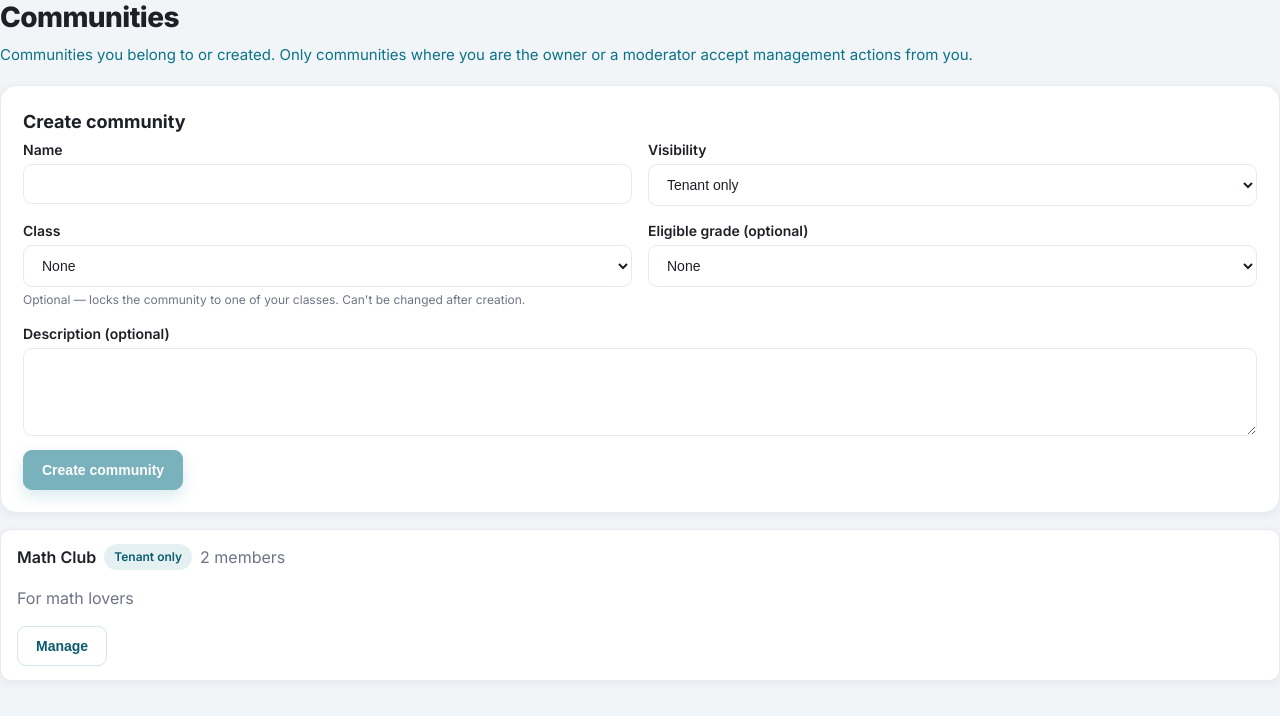
it: TeacherCommunitiesPage › a SchoolAdmin sees management actions on this teacher-portal page even without membership (blanket bypass)
Click the button "Manage". click: (62, 646)
box: [17,626,107,666]
(page scrolled)
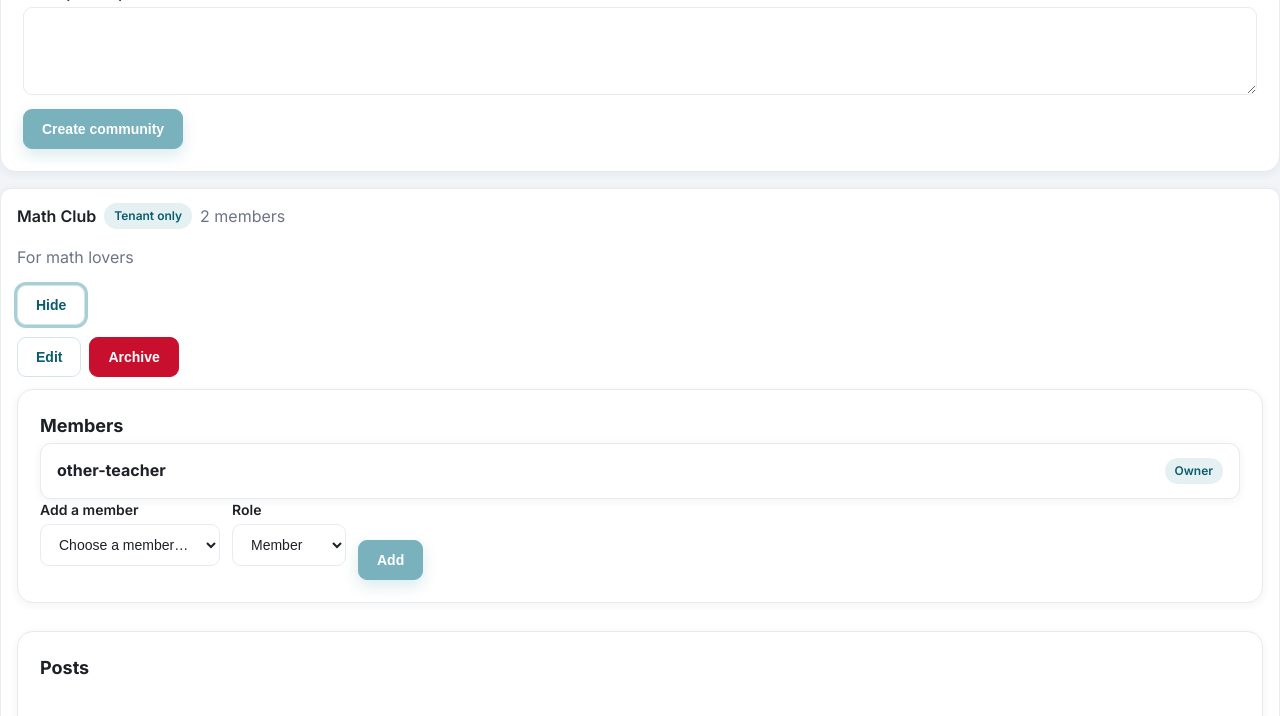
Expected: the button "Archive" is shown, [90,336,179,376]
